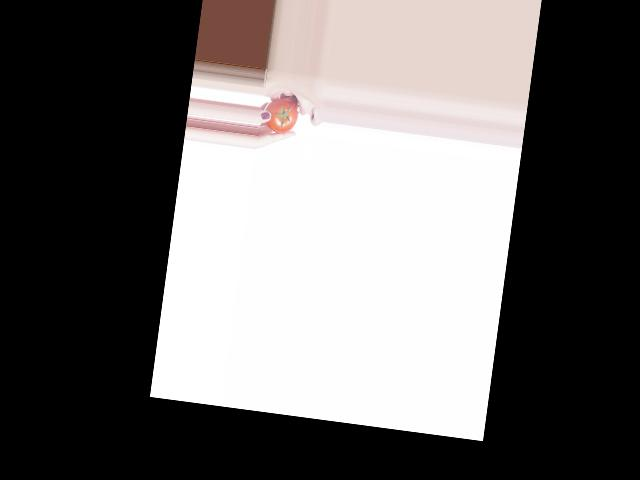tomato: (261, 96, 299, 135)
